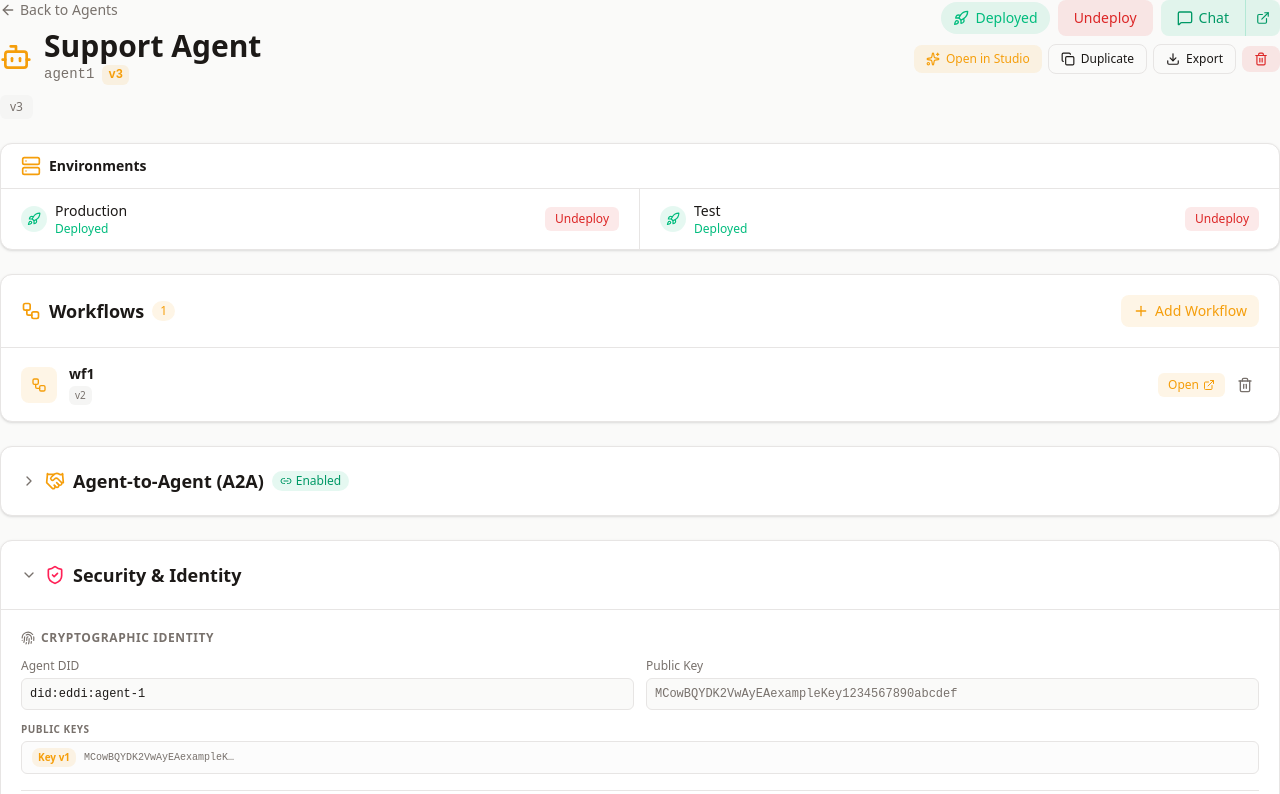
Scenario: AgentDetailPage › shows A2A endpoint URLs when enabled
The image size is (1280, 794).
Click the button "Agent-to-Agent (A2A) Enabled" at [168, 481], box [1,447,1279,515]
(page scrolled)
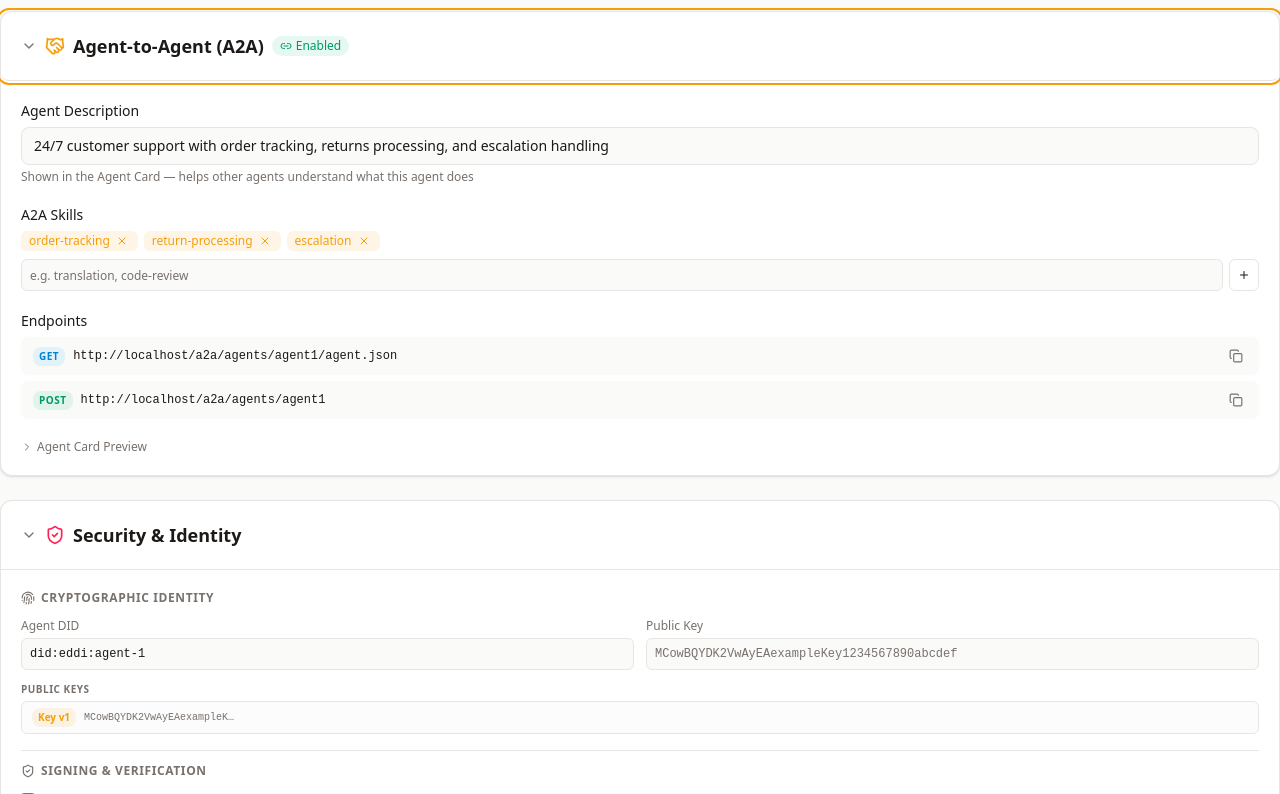
expect the text "GET" is shown: met, box [33,346,65,366]
expect the text "POST" is shown: met, box [33,390,72,410]
